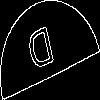D: (25, 25, 58, 81)
